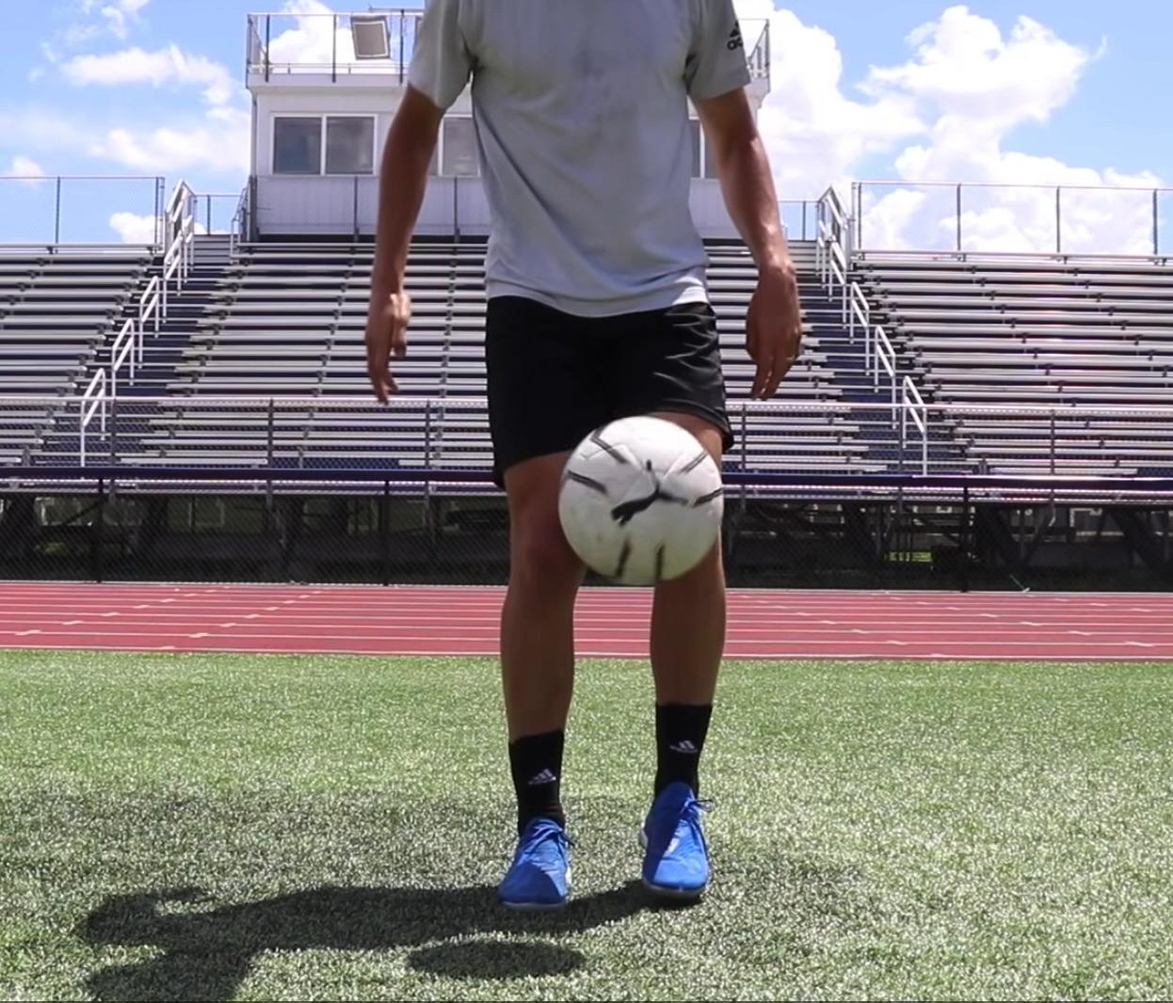ball: (554, 414, 726, 585)
foot: (634, 769, 714, 897), (497, 804, 577, 912)
person: (364, 0, 801, 909)
